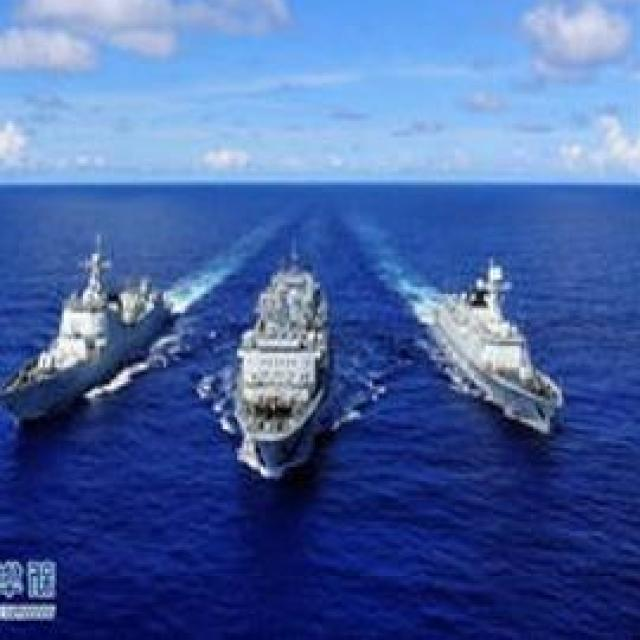navalvessels: (13, 229, 175, 433), (216, 258, 365, 470), (424, 232, 564, 433)
